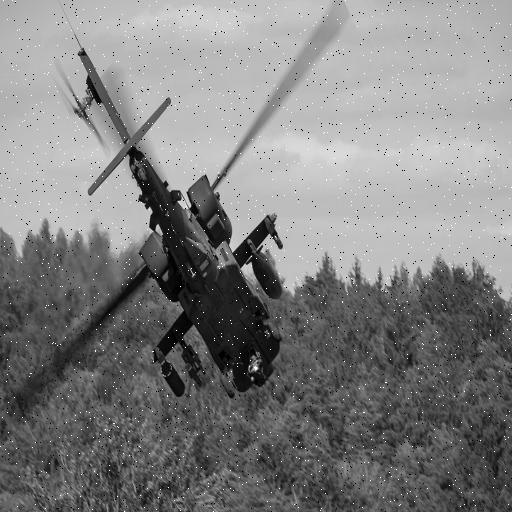helicopter: (1, 1, 360, 461)
